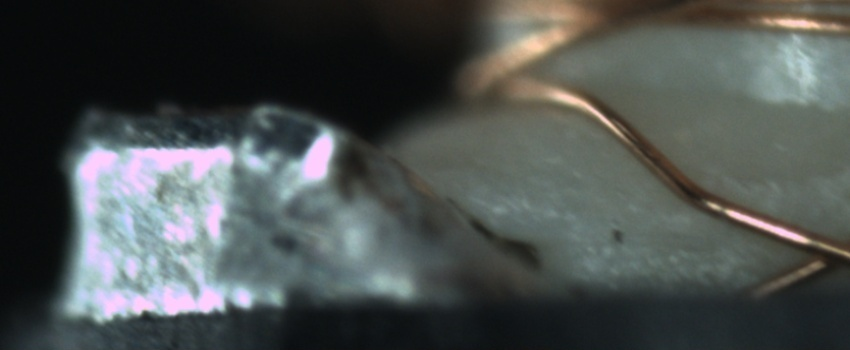CL: (776, 219, 849, 283)
DL: (584, 214, 742, 267)
